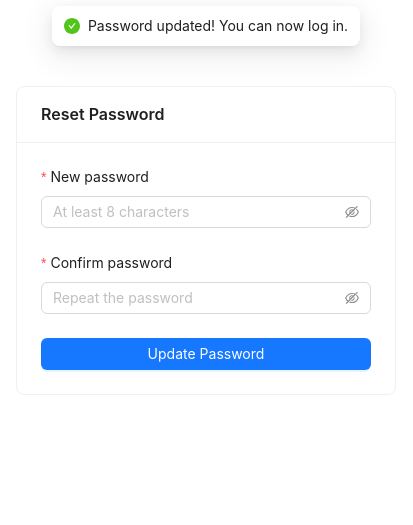
Scenario: ResetPassword page › shows the backend's message for an expired token
The width and height of the screenshot is (413, 525).
Type "Passw0rd123" into the password field with placeholder "At least 8 characters" at [197, 212], box [53, 201, 341, 223]
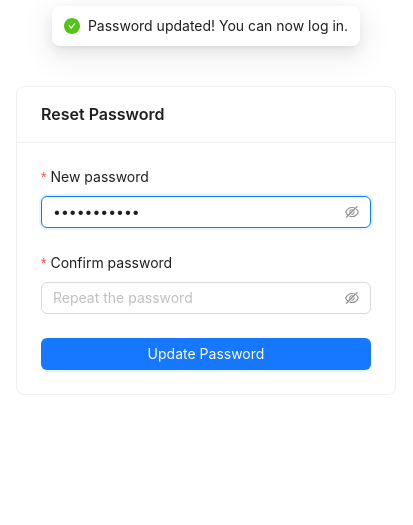
Type "Passw0rd123" into the password field with placeholder "Repeat the password" at [197, 298], box [53, 287, 341, 309]
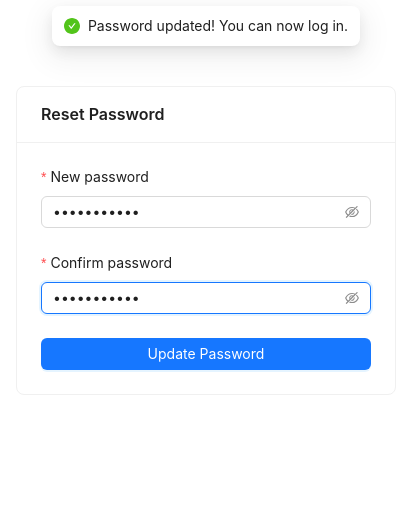
Click the button "Update Password" at [206, 354], box [41, 338, 371, 370]
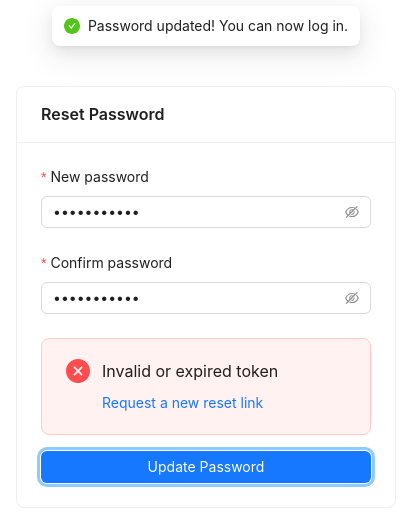
Expected: the text "Invalid or expired token" is shown, [102, 361, 278, 381]
Expected: the link "Request a new reset link" is shown, [102, 394, 263, 411]
